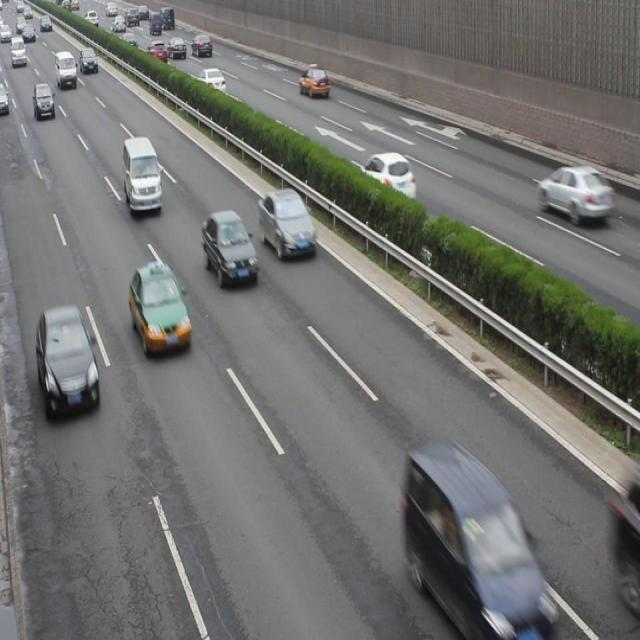car: (404, 442, 550, 640), (36, 308, 99, 417), (128, 262, 191, 352), (200, 210, 257, 289), (536, 165, 612, 223), (256, 187, 315, 259), (358, 152, 416, 201), (298, 65, 328, 98), (33, 83, 56, 122), (196, 70, 226, 96), (191, 34, 212, 60), (146, 41, 167, 64), (80, 49, 98, 74), (167, 37, 186, 60), (120, 34, 138, 52)
truck: (122, 134, 162, 213), (54, 51, 76, 89), (12, 36, 27, 66)
